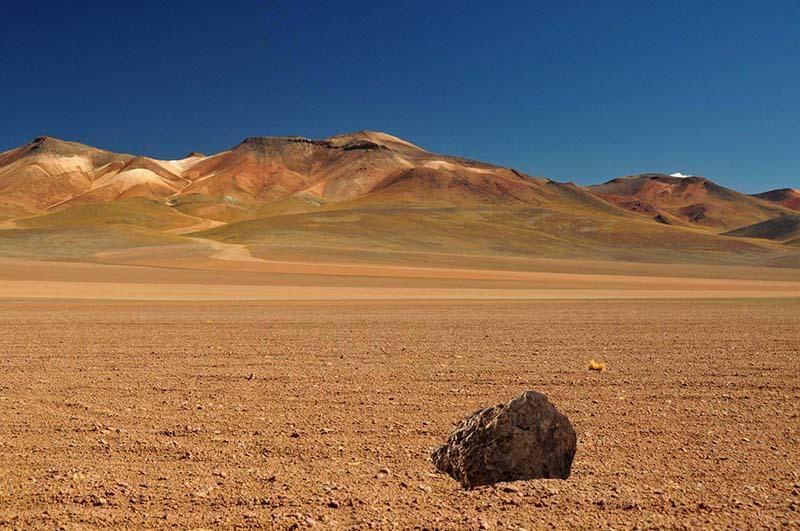Rocks: (421, 381, 582, 498)
